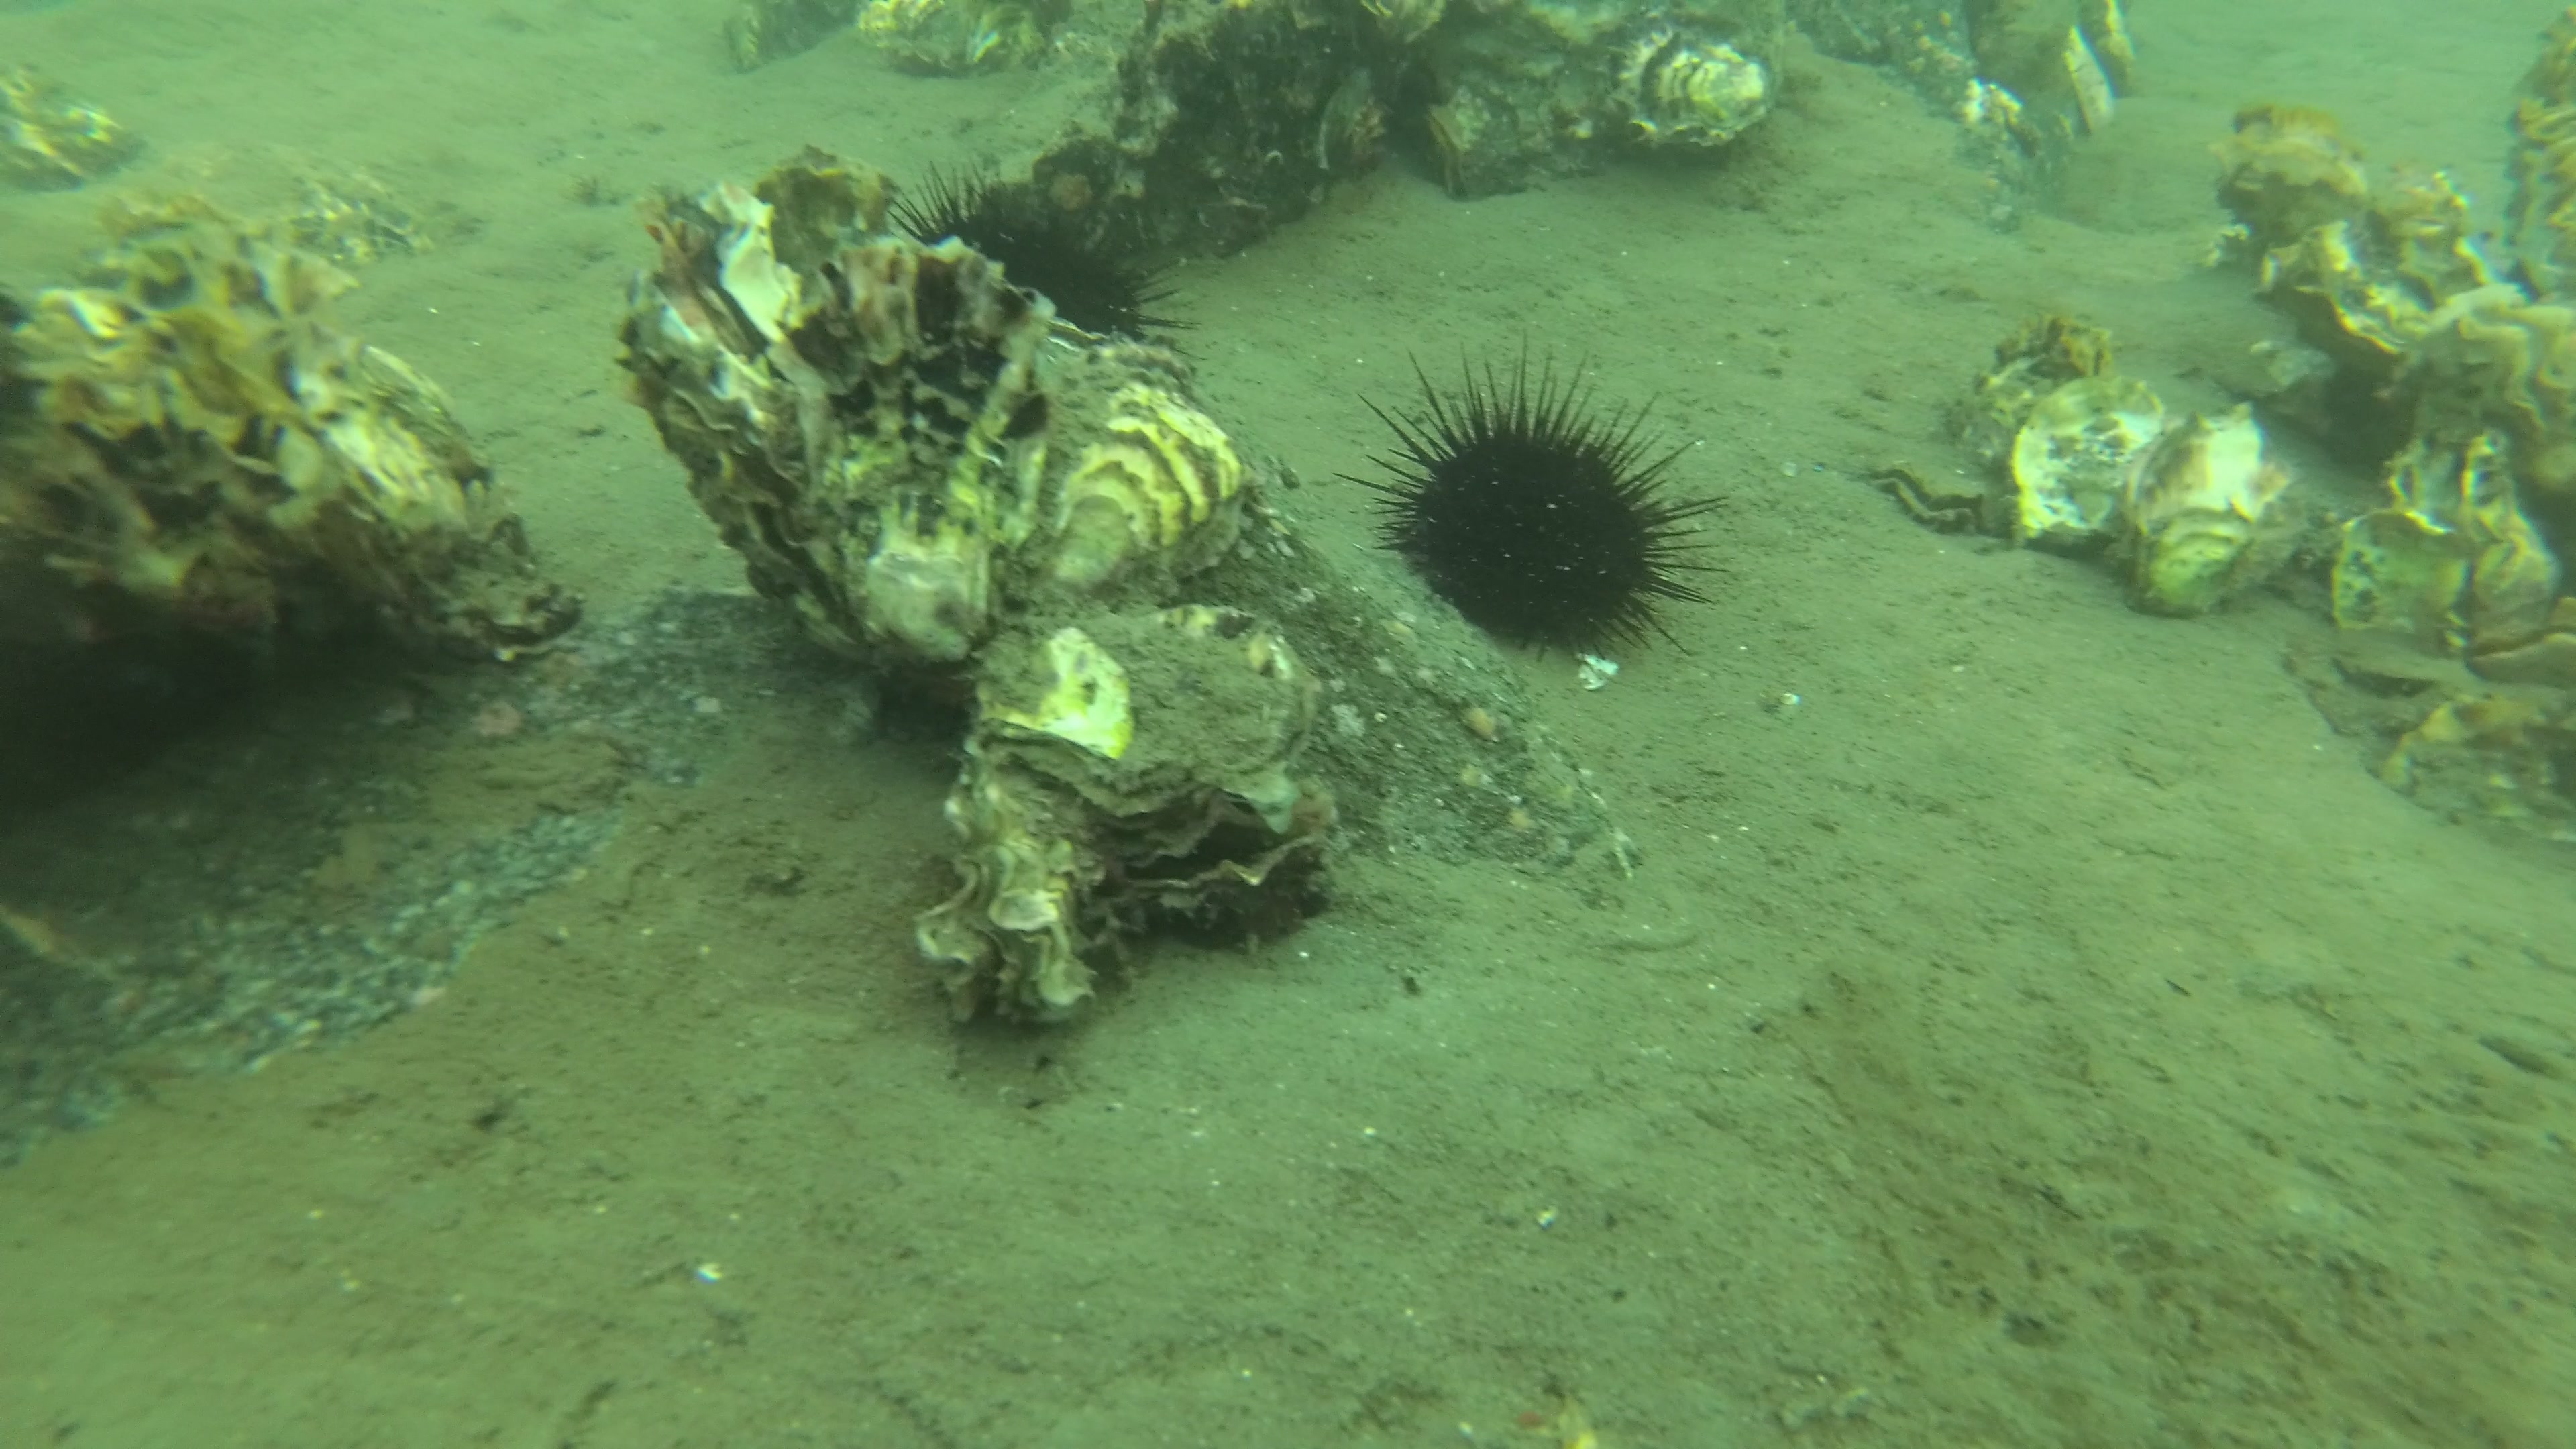echinus: (1332, 326, 1727, 663), (888, 173, 1189, 403)
